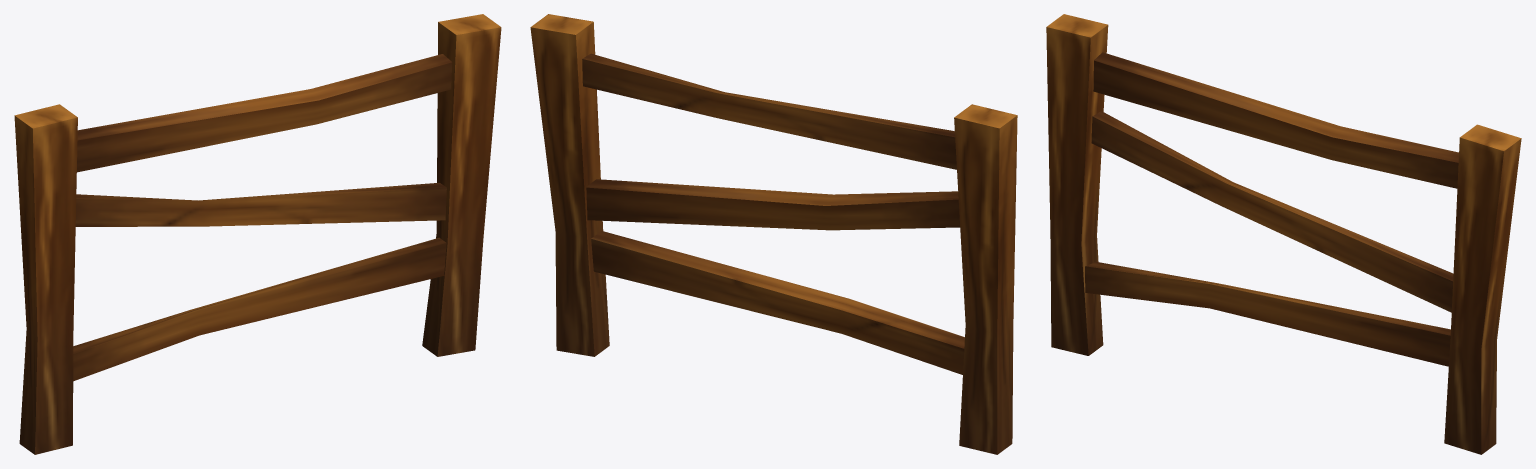
Rendered from fence_4.fbx.
The picture shows the model from 3 angles, left to right: view 1: azimuth 30°, elevation 25°; view 2: azimuth 150°, elevation 25°; view 3: azimuth 330°, elevation 25°; orthographic projection. The views are drawn at different scales.
Visible parts, largest first — view 1: fence_4; view 2: fence_4; view 3: fence_4.
Boxes of the visible parts, x1,y1,x2,y2 form: fence_4: (14,14,501,454); fence_4: (530,14,1017,454); fence_4: (1046,14,1521,454).
Size of the model in its own units: 1.95 by 1.31 by 0.1487.
